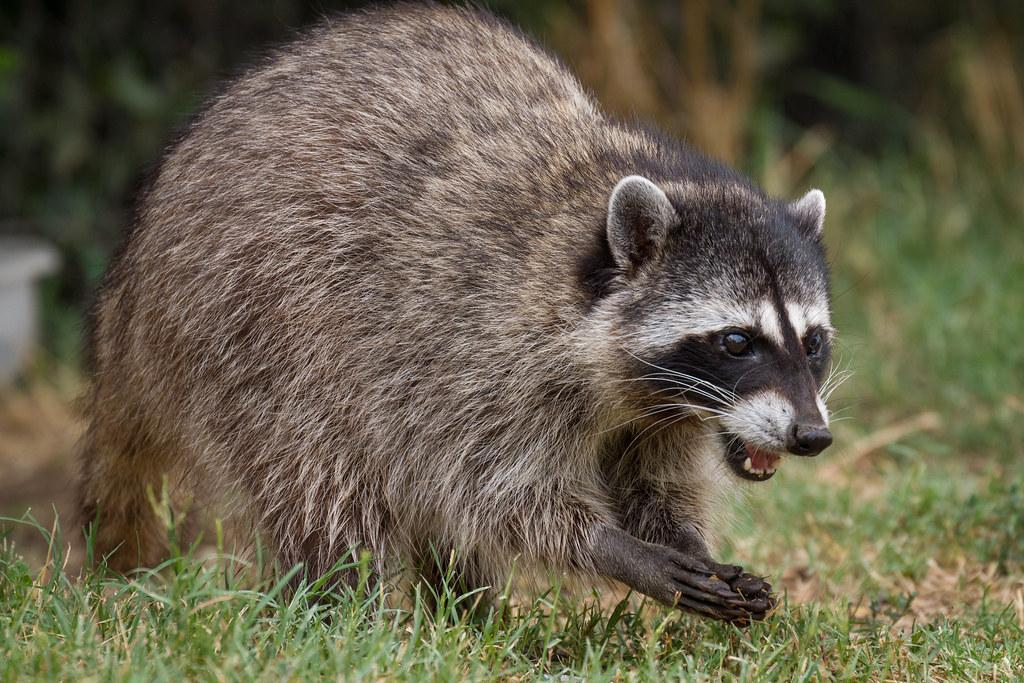raccoon: (84, 1, 844, 633)
